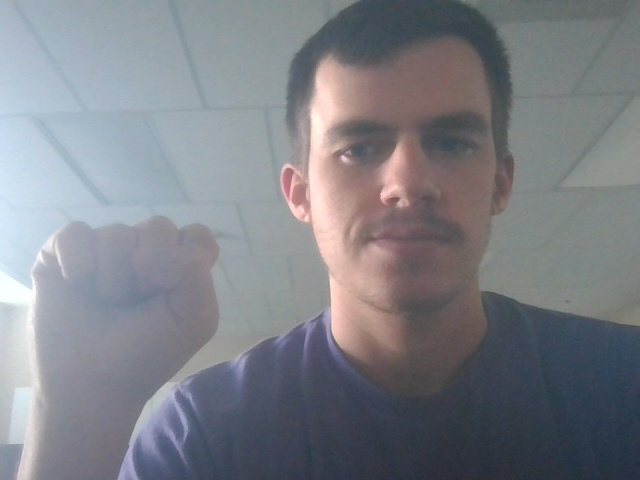yes: (24, 200, 240, 397)
